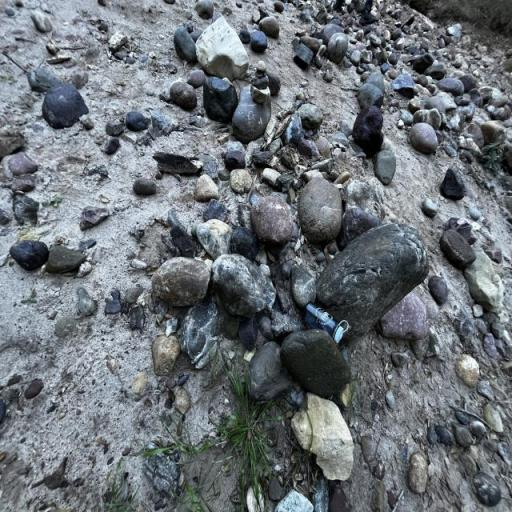bottle: (301, 302, 349, 343)
